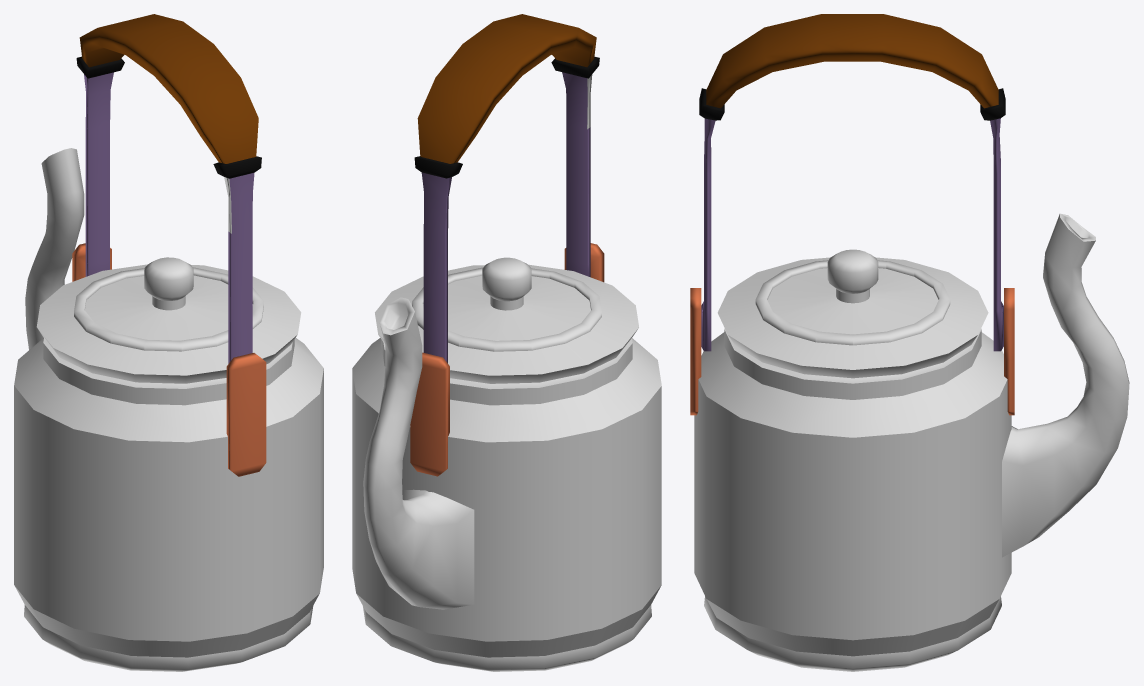
File: Kaffekanna_modell_scaled&uv_malte_001.fbx
The picture shows the model from 3 angles, left to right: view 1: azimuth 30°, elevation 25°; view 2: azimuth 150°, elevation 25°; view 3: azimuth 270°, elevation 25°; orthographic projection.
Parts seen in each view (by area): view 1: file1; view 2: file1; view 3: file1.
Boxes of the visible parts, x1=… form: file1: x1=14, y1=14, x2=323, y2=671; file1: x1=352, y1=14, x2=661, y2=671; file1: x1=690, y1=14, x2=1129, y2=671.
Bounding box in the file's own units: 170 × 345 × 235.
